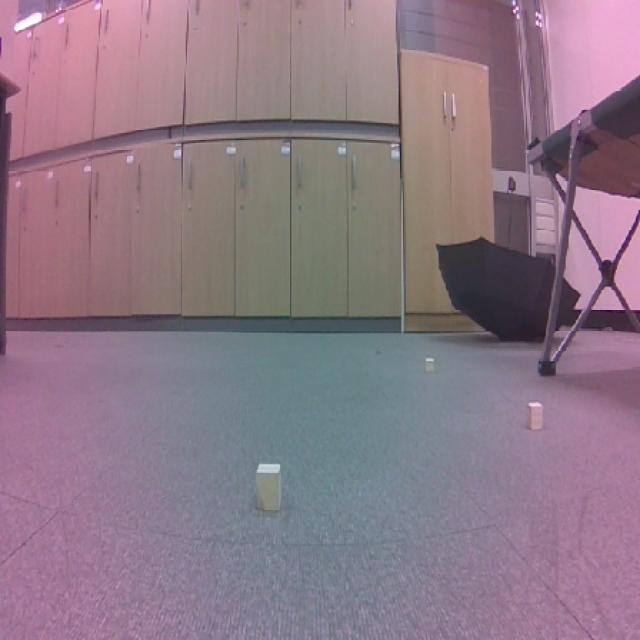obstacle: (252, 450, 288, 525), (523, 395, 549, 443)
